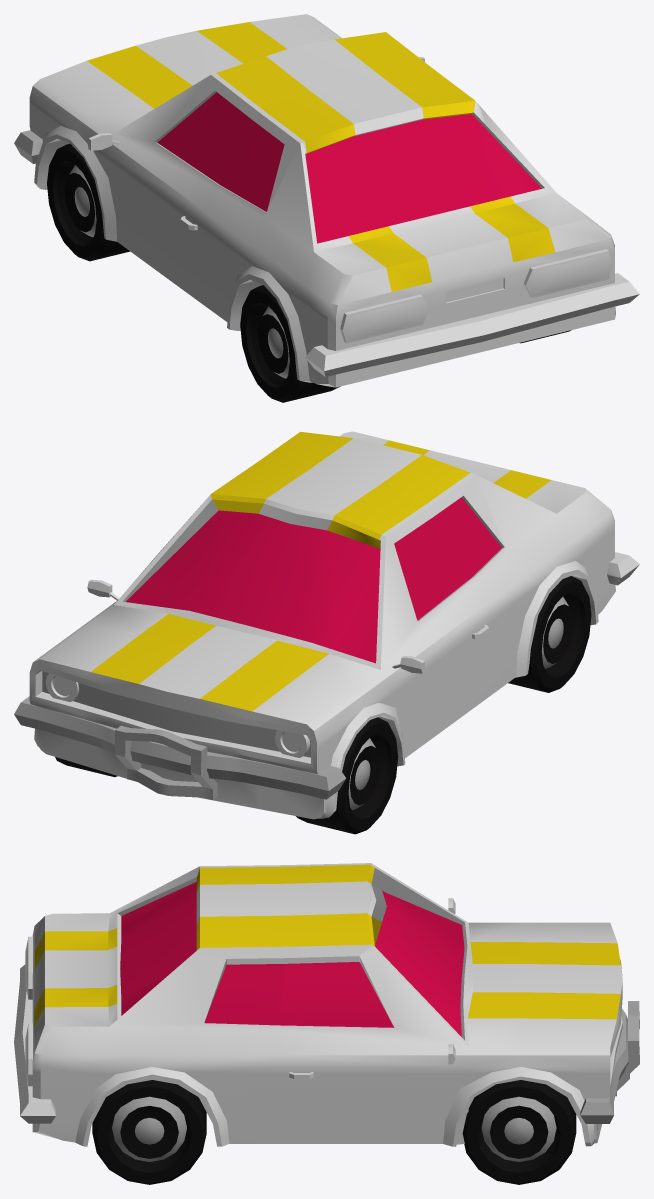
The model's file is car_8.fbx.
3 views of the same model, one above another, from view 1: azimuth 30°, elevation 25°; view 2: azimuth 150°, elevation 25°; view 3: azimuth 270°, elevation 25° (orthographic). The views are drawn at different scales.
Visible parts, largest first — view 1: polySurface31; view 2: polySurface31; view 3: polySurface31.
Part boxes in pixels (x1,y1,x2,y2): polySurface31: [14, 14, 639, 402]; polySurface31: [14, 431, 639, 834]; polySurface31: [14, 863, 639, 1184].
Size of the model in its own units: 32.93 by 21.77 by 55.9.
